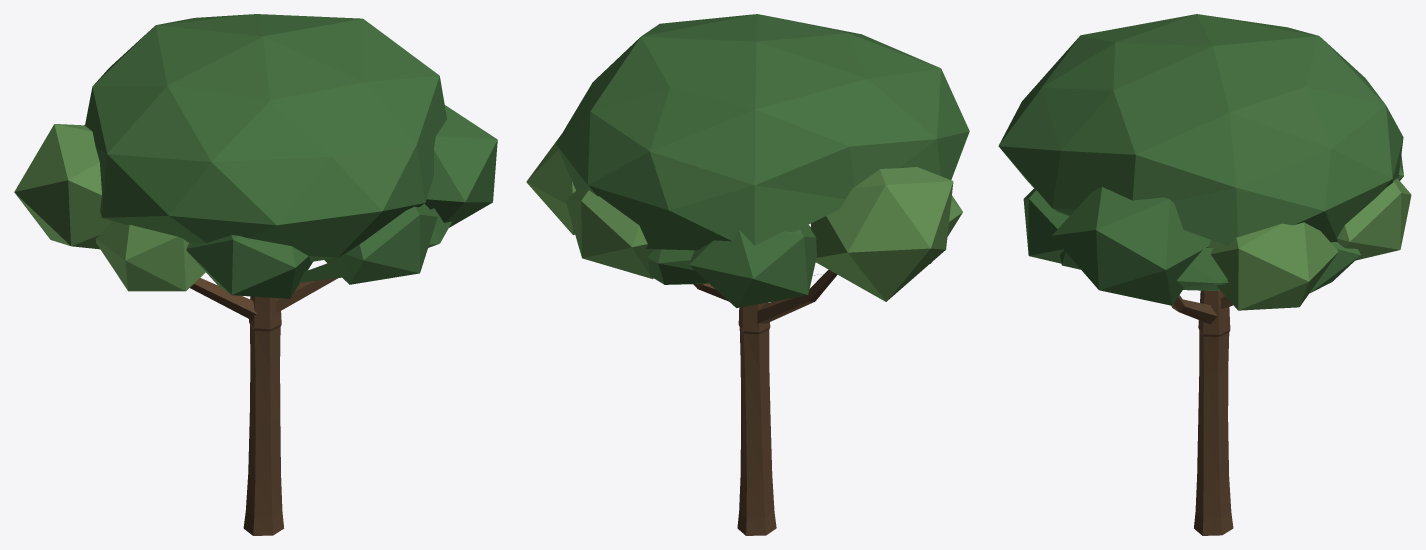
The model's file is broad-canopy-shade-tree-e7c4a2.glb.
3 renders of one model, left to right at view 1: azimuth 30°, elevation 25°; view 2: azimuth 150°, elevation 25°; view 3: azimuth 270°, elevation 25°, orthographic. The views are drawn at different scales.
Visible parts, largest first — view 1: crown-mesh, trunk-mesh; view 2: crown-mesh, trunk-mesh; view 3: crown-mesh, trunk-mesh.
Part boxes in pixels (x1,y1,x2,y2): crown-mesh: (14,14,497,331); trunk-mesh: (243,325,284,535); crown-mesh: (526,14,969,334); trunk-mesh: (737,327,776,535); crown-mesh: (998,14,1411,336); trunk-mesh: (1194,331,1233,535).
Size of the model in its own units: 7.34 by 8.54 by 6.63.
